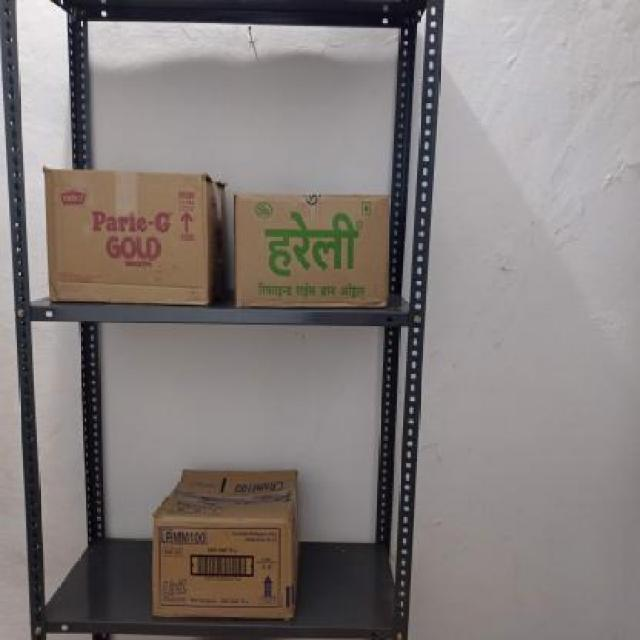box: (43, 167, 208, 310), (234, 192, 388, 306), (154, 516, 292, 626)
